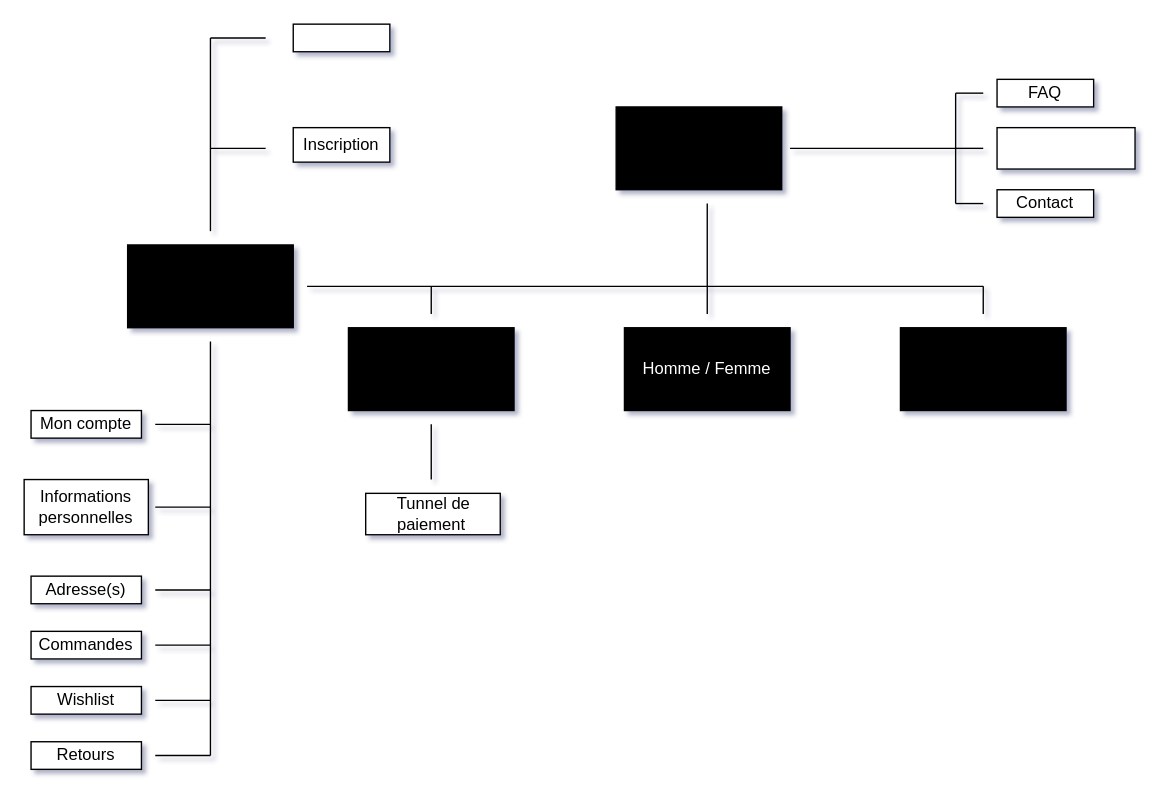
Some shapes in this 1167 by 802 pixel diagram are drawn without their labels. The shapes that lost their labels are listed below. From the top down, each one's centre as x and y in pixels, then its label:
At point 341,37: "Login".
At point 698,148: "Accueil".
At point 1065,147: "Envois et retours".
At point 209,286: "Compte".
At point 430,368: "Panier".
At point 982,368: "Collections".
